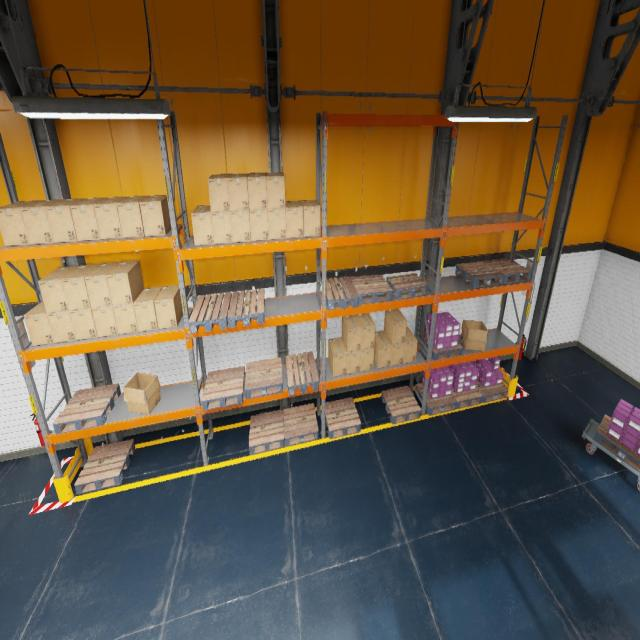box: (20, 199, 65, 244), (38, 265, 79, 313), (0, 200, 42, 246), (45, 198, 87, 242), (61, 264, 100, 310), (106, 260, 144, 305), (70, 198, 108, 242), (123, 372, 161, 415), (93, 196, 130, 240), (84, 262, 120, 307), (116, 195, 150, 238), (23, 301, 54, 346), (139, 195, 171, 236), (154, 284, 183, 329), (134, 286, 162, 332), (47, 311, 76, 343), (191, 205, 214, 245), (70, 308, 98, 340), (461, 319, 488, 351), (91, 306, 118, 337), (227, 173, 249, 211), (208, 174, 230, 212), (384, 309, 407, 344), (112, 304, 138, 334), (328, 337, 347, 377), (247, 172, 267, 210), (342, 315, 362, 352), (384, 330, 404, 366), (356, 313, 375, 350), (342, 338, 361, 374), (301, 200, 320, 236), (286, 200, 304, 238), (266, 172, 285, 208), (230, 210, 251, 242), (211, 212, 232, 244), (374, 331, 392, 368), (249, 209, 269, 241), (268, 208, 286, 239), (403, 327, 417, 363), (360, 348, 374, 371)
pallets: (52, 384, 121, 434), (74, 439, 135, 494), (594, 414, 640, 472), (201, 366, 245, 410), (188, 292, 232, 334), (249, 410, 284, 455), (245, 357, 282, 399), (381, 386, 421, 424), (325, 397, 361, 439), (283, 403, 318, 446), (286, 351, 318, 396), (228, 288, 264, 328), (415, 383, 456, 415), (350, 274, 393, 304), (483, 258, 532, 284), (455, 262, 504, 288), (419, 332, 462, 360), (386, 273, 429, 300), (326, 277, 358, 310), (476, 380, 508, 403), (451, 387, 483, 409)
